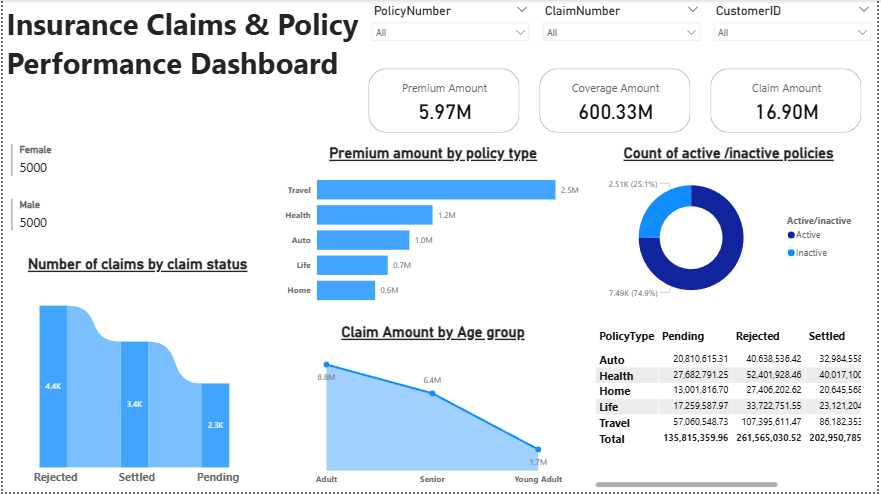

Layout of this report page (visuals, bound fields, positions):
{"tool":"powerbi","page":{"name":"Page 1","canvas":[1280,720],"ordinal":0},"visuals":[{"type":"slicer","fields":{"Values":["InsuranceData (1).PolicyNumber"]},"box":[529.1,0,250.3,73.9],"z":0},{"type":"slicer","fields":{"Values":["InsuranceData (1).ClaimNumber"]},"box":[779.4,0,250.3,73.9],"z":1000},{"type":"slicer","fields":{"Values":["InsuranceData (1).CustomerID"]},"box":[1029.7,0,250.3,73.9],"z":2000},{"type":"textbox","box":[0,0,529.8,199],"z":3000},{"type":"cardVisual","fields":{"Data":["Sum(InsuranceData (1).PremiumAmount)"]},"box":[529.1,95.7,231.8,104.1],"z":4000},{"type":"cardVisual","fields":{"Data":["Sum(InsuranceData (1).CoverageAmount)"]},"box":[779.4,95.7,231.8,104.1],"z":5000},{"type":"cardVisual","fields":{"Data":["Sum(InsuranceData (1).ClaimAmount)"]},"box":[1029.7,95.7,231.8,104.1],"z":6000},{"type":"multiRowCard","fields":{"Values":["InsuranceData (1).Gender","CountNonNull(InsuranceData (1).Gender)"]},"box":[0,199,405.4,174.1],"z":7000},{"type":"ribbonChart","title":"Number of claims by claim status","fields":{"Category":["InsuranceData (1).ClaimStatus"],"Y":["CountNonNull(InsuranceData (1).ClaimStatus)"]},"box":[0,373.2,392.2,346.8],"z":8000},{"type":"barChart","title":"Premium amount by policy type","fields":{"Category":["InsuranceData (1).PolicyType"],"Y":["Sum(InsuranceData (1).PremiumAmount)"]},"box":[405.4,210.7,446.3,250.2],"z":9000},{"type":"lineChart","title":"Claim Amount by Age group","fields":{"Category":["InsuranceData (1).Age group"],"Y":["Sum(InsuranceData (1).ClaimAmount)"]},"box":[405,473,446,247],"z":10000},{"type":"donutChart","title":"Count of active /inactive policies","fields":{"Category":["InsuranceData (1).Active/inactive"],"Y":["CountNonNull(InsuranceData (1).Active/inactive)"]},"box":[860.5,210.7,401,250.2],"z":11000},{"type":"pivotTable","fields":{"Values":["Sum(InsuranceData (1).CoverageAmount)"],"Rows":["InsuranceData (1).PolicyType"],"Columns":["InsuranceData (1).ClaimStatus"]},"box":[860.5,472.7,401,247.3],"z":12000}]}

Visuals, with their boxes in screenshot pixels (x1, y1, x2, y2), scaled from the page's 1280x720 canvas onto the 881x494 screenshot:
slicer - InsuranceData (1).PolicyNumber: 364:0:536:51
slicer - InsuranceData (1).ClaimNumber: 536:0:709:51
slicer - InsuranceData (1).CustomerID: 709:0:880:51
textbox: 0:0:365:137
cardVisual - Sum(InsuranceData (1).PremiumAmount): 364:66:524:137
cardVisual - Sum(InsuranceData (1).CoverageAmount): 536:66:696:137
cardVisual - Sum(InsuranceData (1).ClaimAmount): 709:66:868:137
multiRowCard - InsuranceData (1).Gender x CountNonNull(InsuranceData (1).Gender): 0:137:279:256
"Number of claims by claim status" ribbonChart: 0:256:270:493
"Premium amount by policy type" barChart: 279:145:586:316
"Claim Amount by Age group" lineChart: 279:325:586:493
"Count of active /inactive policies" donutChart: 592:145:868:316
pivotTable - Sum(InsuranceData (1).CoverageAmount) x InsuranceData (1).PolicyType: 592:324:868:493
